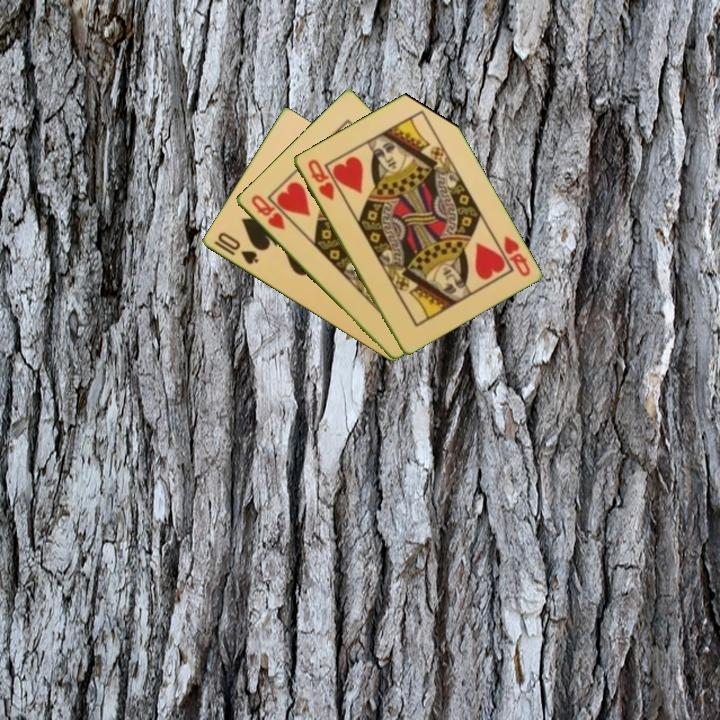10s: (210, 228, 261, 268)
Qh: (247, 191, 288, 233), (304, 155, 337, 203), (500, 232, 533, 279)
